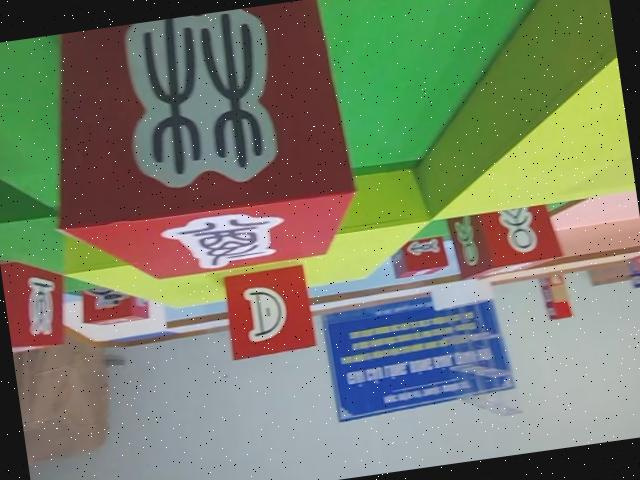R1: (76, 278, 152, 331)
R2 Fake: (28, 0, 366, 295), (0, 254, 74, 356)
R2 Real: (220, 264, 318, 365), (448, 199, 563, 281), (390, 235, 450, 282)
